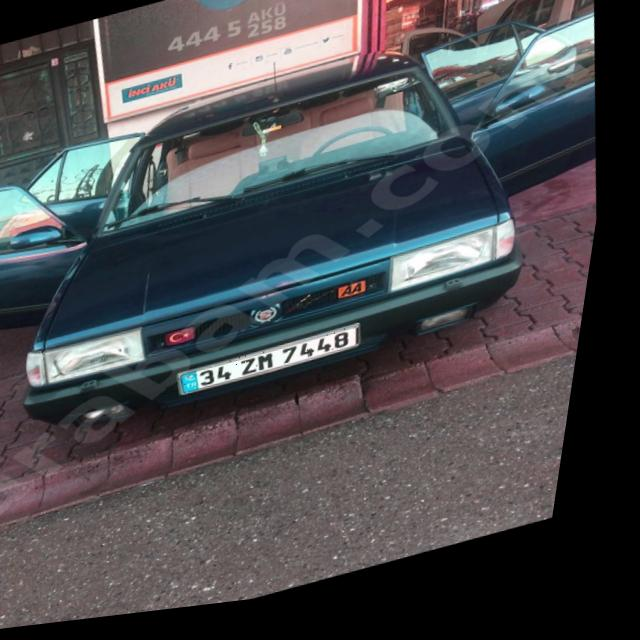license_plate: (188, 335, 373, 403)
